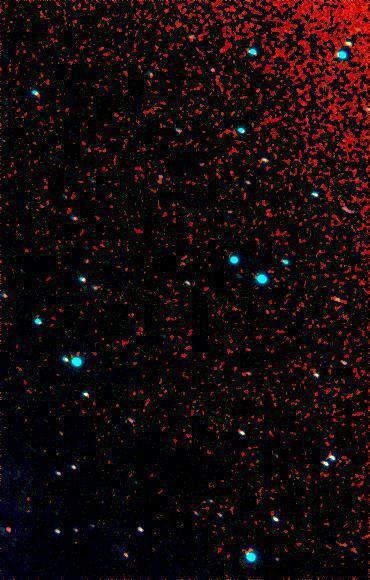star: (0, 514, 23, 544)
